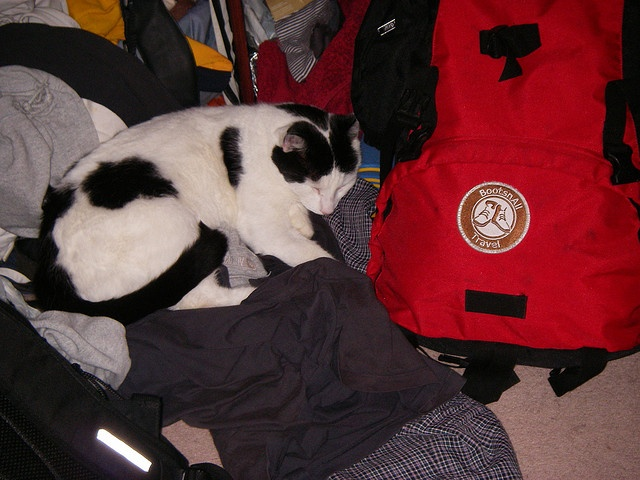cat: (30, 101, 395, 428)
